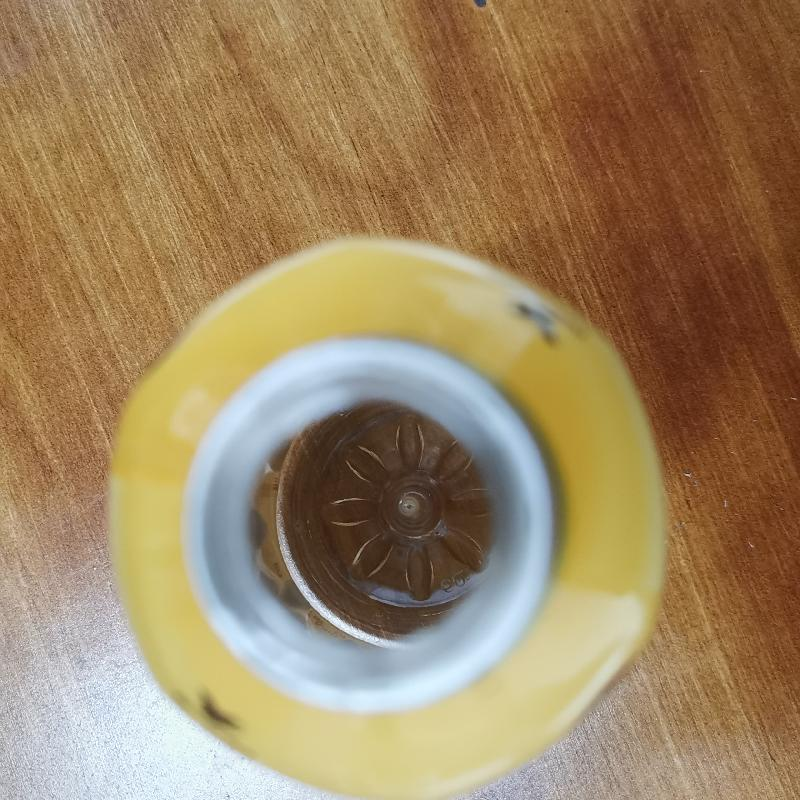bottles: (98, 241, 672, 800)
